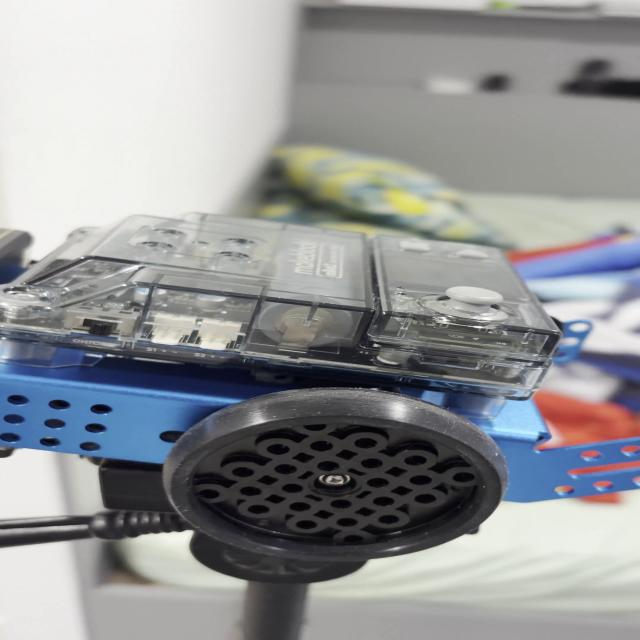mbot-detection: (0, 203, 640, 572)
